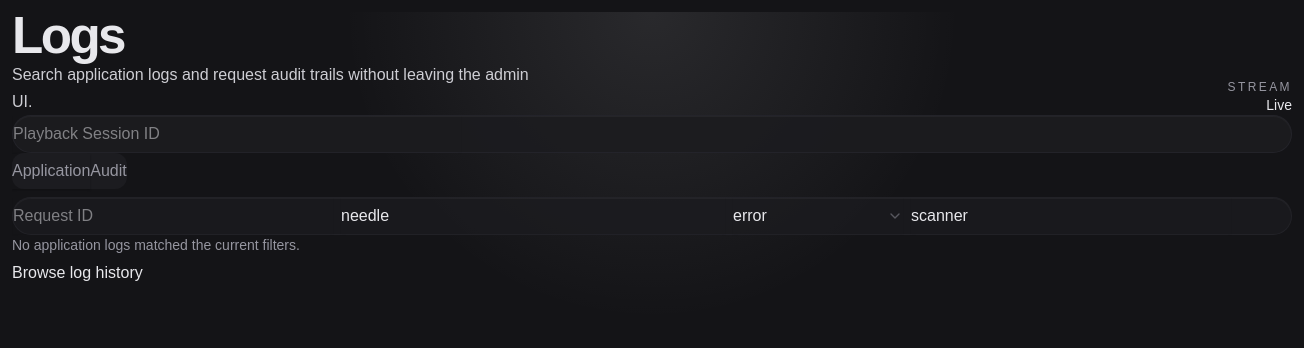
Test case: admin log history › starts from a fresh snapshot, pages with server cursors, and returns to live logs
Click the button "Browse log history".
click(77, 273)  # box [12, 255, 143, 291]
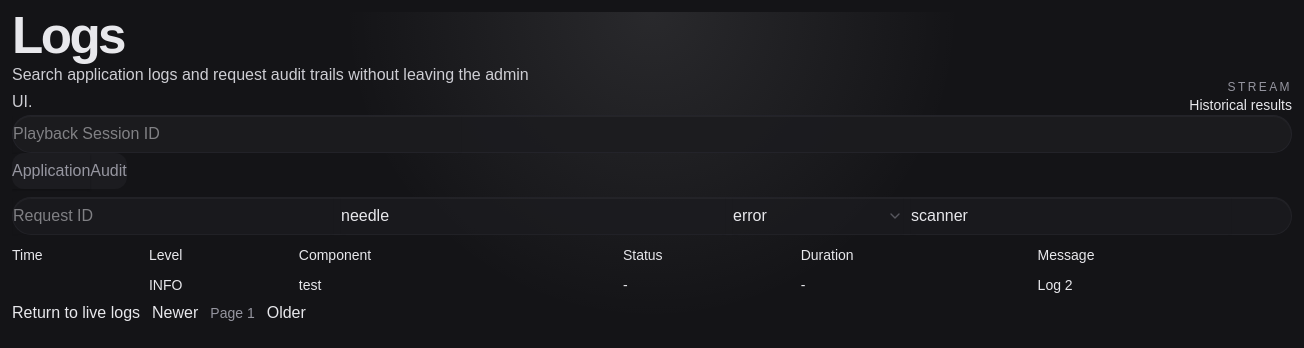
Expected: the text "Log 2" is shown, [1038, 277, 1073, 293]
Click the button "Older".
click(286, 313)  # box [267, 295, 306, 331]
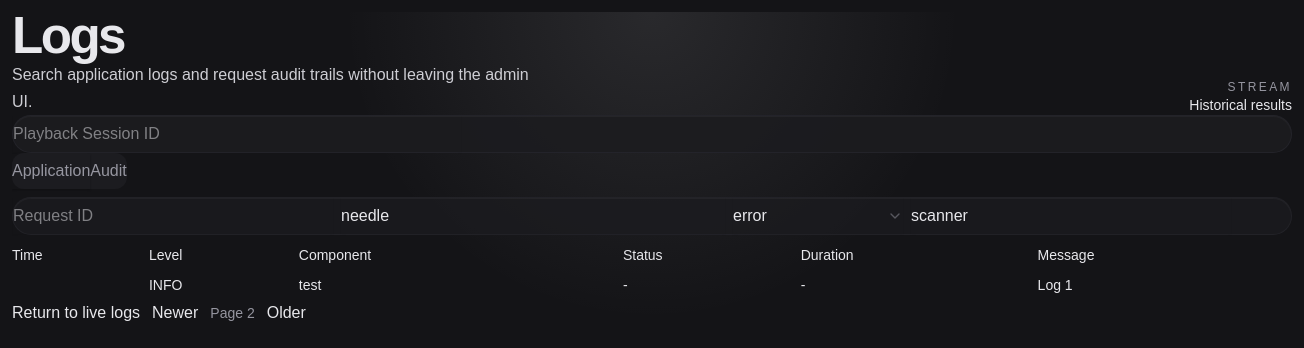
Expected: the text "Log 1" is shown, [1038, 277, 1073, 293]
Click the button "Newer".
click(175, 313)  # box [152, 295, 198, 331]
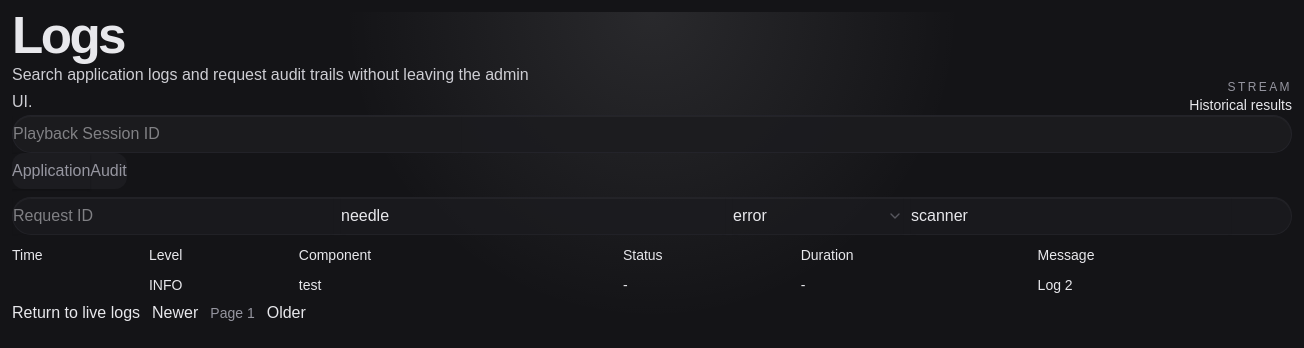
Expected: the text "Log 2" is shown, [1038, 277, 1073, 293]
Click the button "Return to live logs".
click(76, 313)  # box [12, 295, 140, 331]
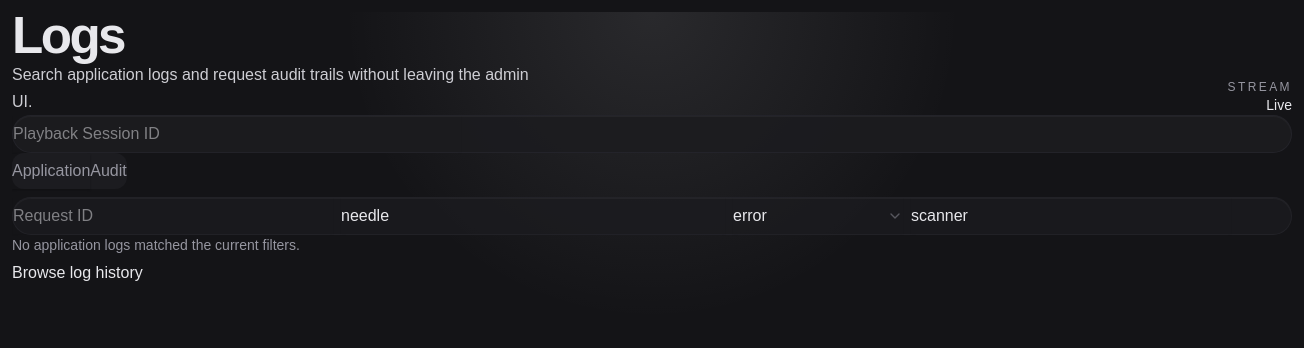
Expected: the button "Browse log history" is shown, [12, 255, 143, 291]
